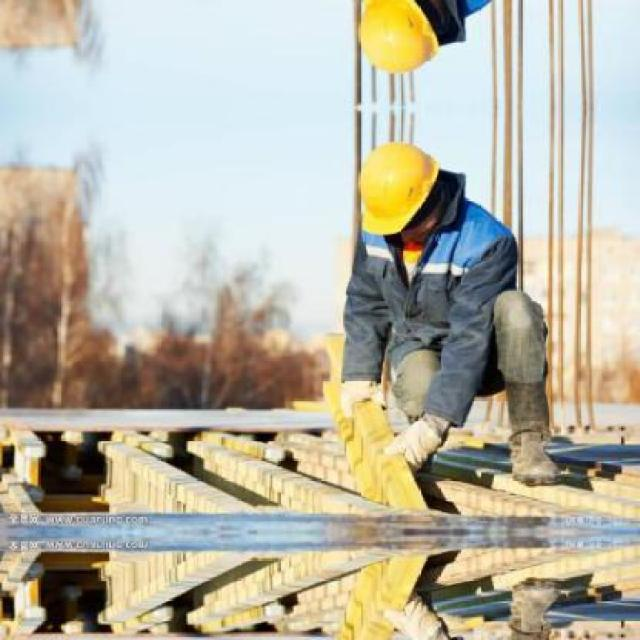helmet: (351, 136, 449, 247), (351, 0, 451, 78)
